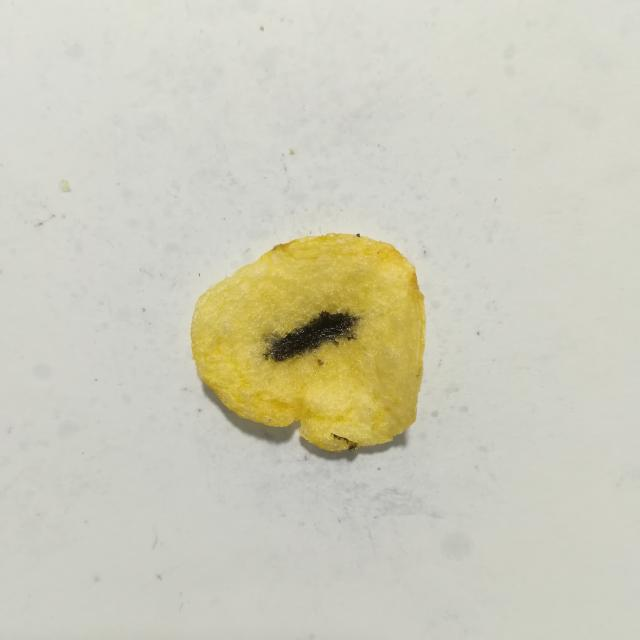chip: (191, 234, 425, 451)
damaged: (265, 311, 358, 361), (331, 433, 357, 451), (356, 233, 360, 237)
semi-damaged: (260, 331, 282, 351), (317, 359, 324, 365)
